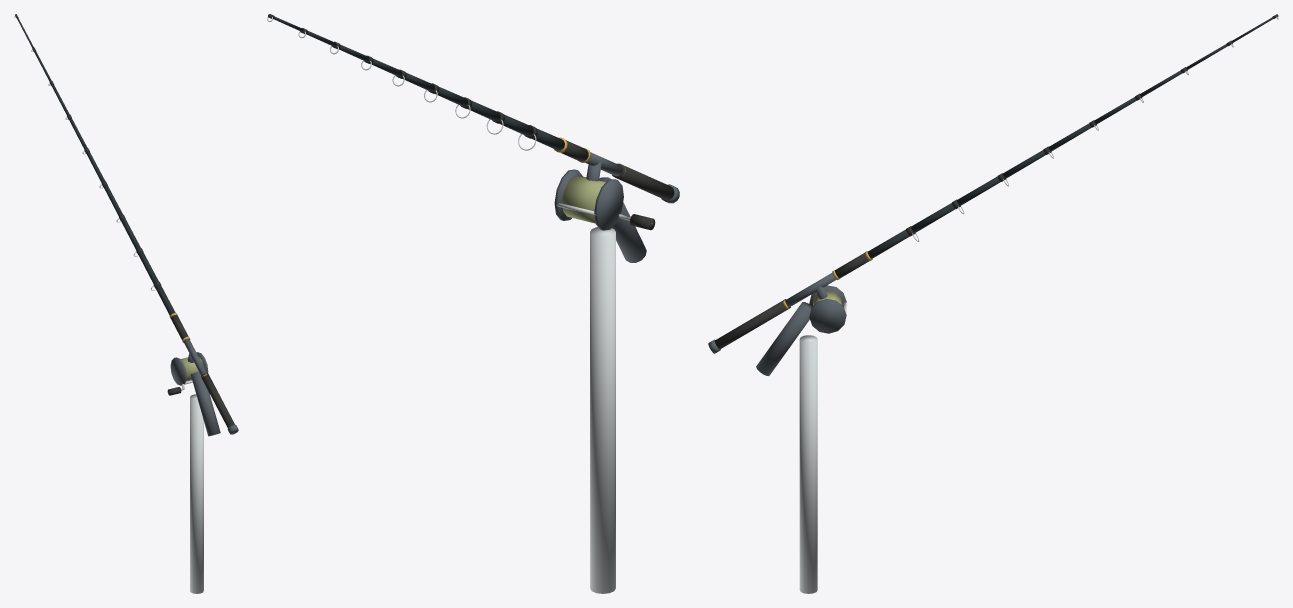
Rendered from hook_line_station.glb.
3 renders of one model, left to right at view 1: azimuth 30°, elevation 25°; view 2: azimuth 150°, elevation 25°; view 3: azimuth 270°, elevation 25°, orthographic. The views are drawn at different scales.
Parts seen in each view (by area): view 1: Pedestal, Bolted rod holder, Butt grip, Reel side plate; view 2: Pedestal, Heavy reel drum, Reel side plate, Bolted rod holder, Butt grip; view 3: Pedestal, Bolted rod holder, Reel side plate.001, Butt grip.
Part boxes in pixels (<box>): Pedestal: <box>190,394,203,593</box>; Bolted rod holder: <box>190,371,220,436</box>; Butt grip: <box>201,373,234,427</box>; Reel side plate: <box>170,357,186,385</box>; Pedestal: <box>590,227,615,593</box>; Heavy reel drum: <box>562,175,605,223</box>; Reel side plate: <box>594,179,623,230</box>; Bolted rod holder: <box>599,177,646,262</box>; Butt grip: <box>612,163,674,199</box>; Pedestal: <box>799,335,817,593</box>; Bolted rod holder: <box>756,302,812,375</box>; Reel side plate.001: <box>809,299,846,333</box>; Butt grip: <box>714,299,790,349</box>.
Bounding box in the file's own units: 0.166 × 1.81 × 1.63.
